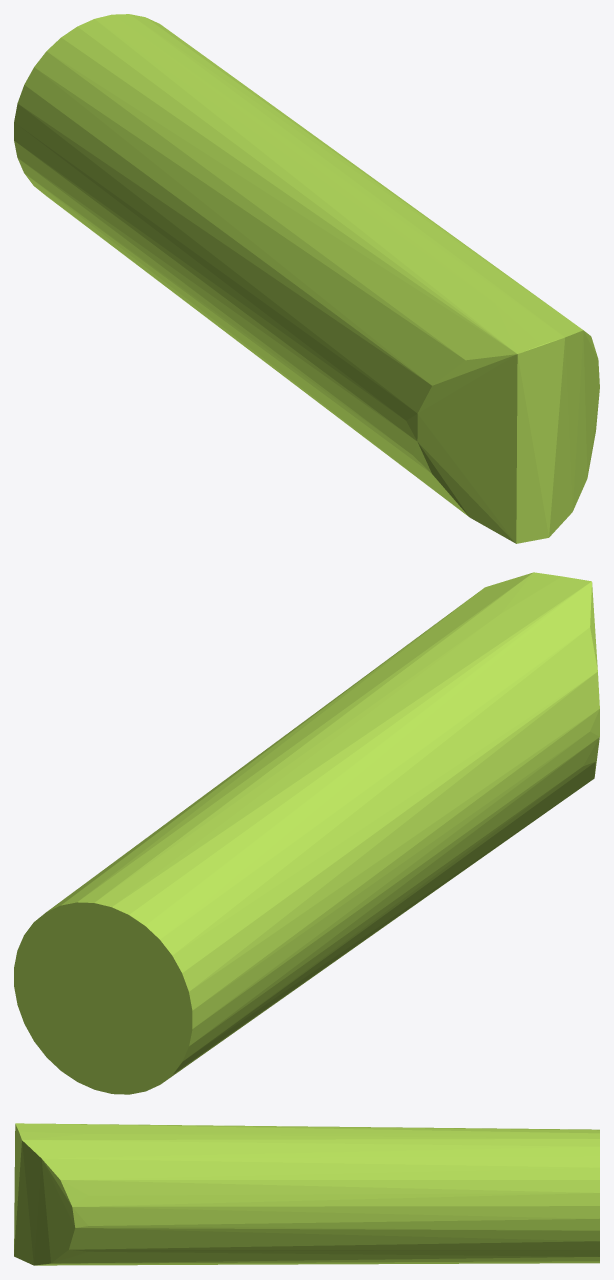
Rendered from industrial_06397_link_3_respondable_respondable_respondable_respondable_respondable_respondable_coll_5.dae.
The picture shows the model from 3 angles, top to bottom: view 1: azimuth 30°, elevation 25°; view 2: azimuth 150°, elevation 25°; view 3: azimuth 270°, elevation 25°; orthographic projection. The views are drawn at different scales.
Parts seen in each view (by area): view 1: node; view 2: node; view 3: node.
Boxes of the visible parts, left/top/right/bottom form: node: left=14, top=14, right=599, bottom=543; node: left=14, top=572, right=599, bottom=1094; node: left=14, top=1123, right=599, bottom=1265.
Bounding box in the file's own units: 0.0755 × 0.0751 × 0.3221.
